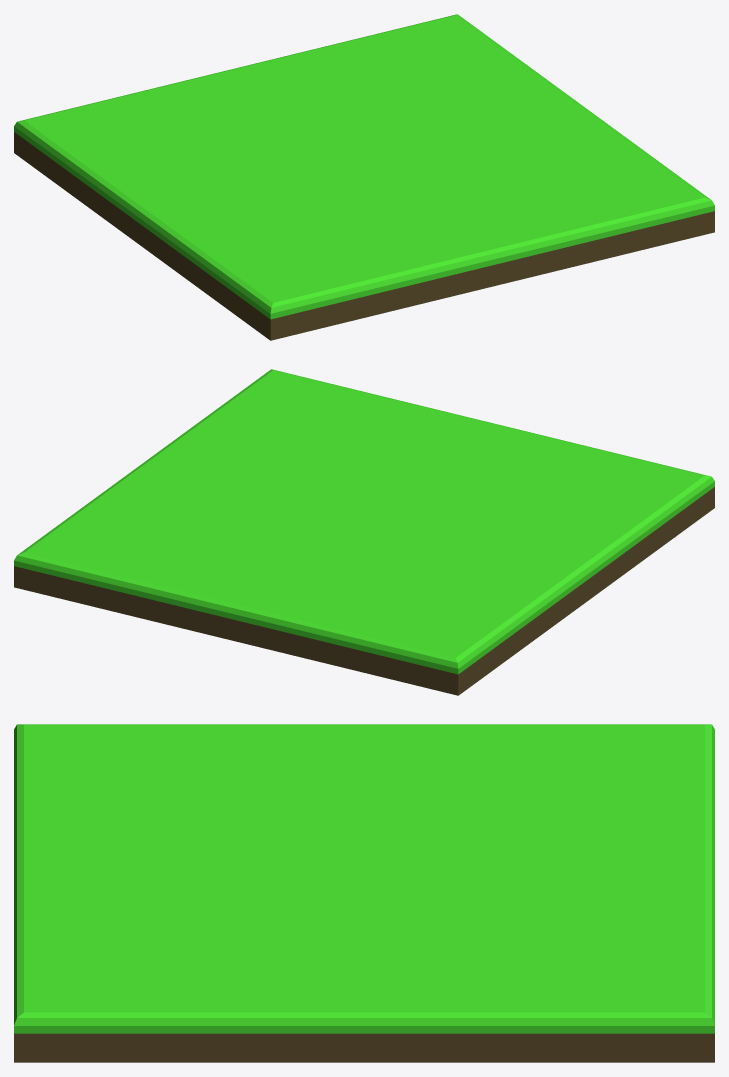
Rendered from Ground.fbx.
3 renders of one model, top to bottom at view 1: azimuth 30°, elevation 25°; view 2: azimuth 150°, elevation 25°; view 3: azimuth 270°, elevation 25°, orthographic. The views are drawn at different scales.
Visible parts, largest first — view 1: Ground; view 2: Ground; view 3: Ground.
Part boxes in pixels (x1=…): Ground: x1=14, y1=14, x2=714, y2=340; Ground: x1=14, y1=369, x2=714, y2=695; Ground: x1=14, y1=724, x2=714, y2=1062.
Size of the model in its own units: 4 by 0.2892 by 4.
